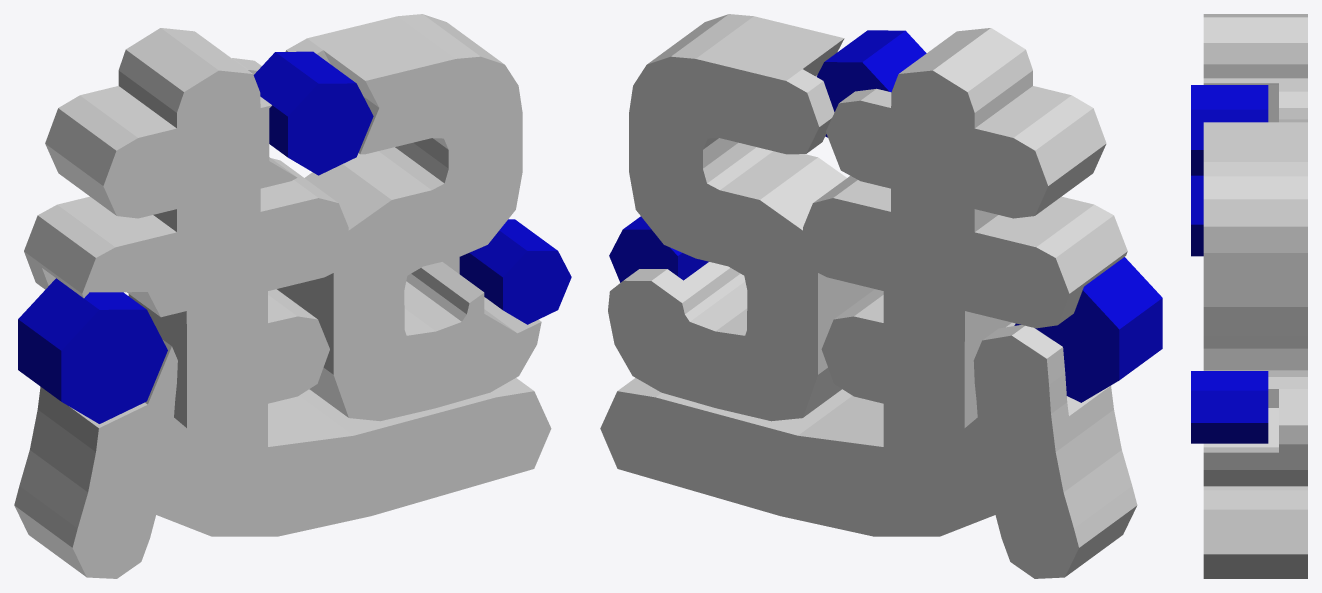
File: Ch_Lite_China_起_01.fbx
3 views of the same model, side by side, from view 1: azimuth 30°, elevation 25°; view 2: azimuth 150°, elevation 25°; view 3: azimuth 270°, elevation 25° (orthographic). The views are drawn at different scales.
Visible parts, largest first — view 1: sphere1; view 2: sphere1; view 3: sphere1.
Part boxes in pixels (bbox=[...]): sphere1: bbox=[14, 14, 571, 578]; sphere1: bbox=[600, 14, 1162, 578]; sphere1: bbox=[1191, 14, 1307, 578].
Size of the model in its own units: 1.01 by 0.9146 by 0.2242.
